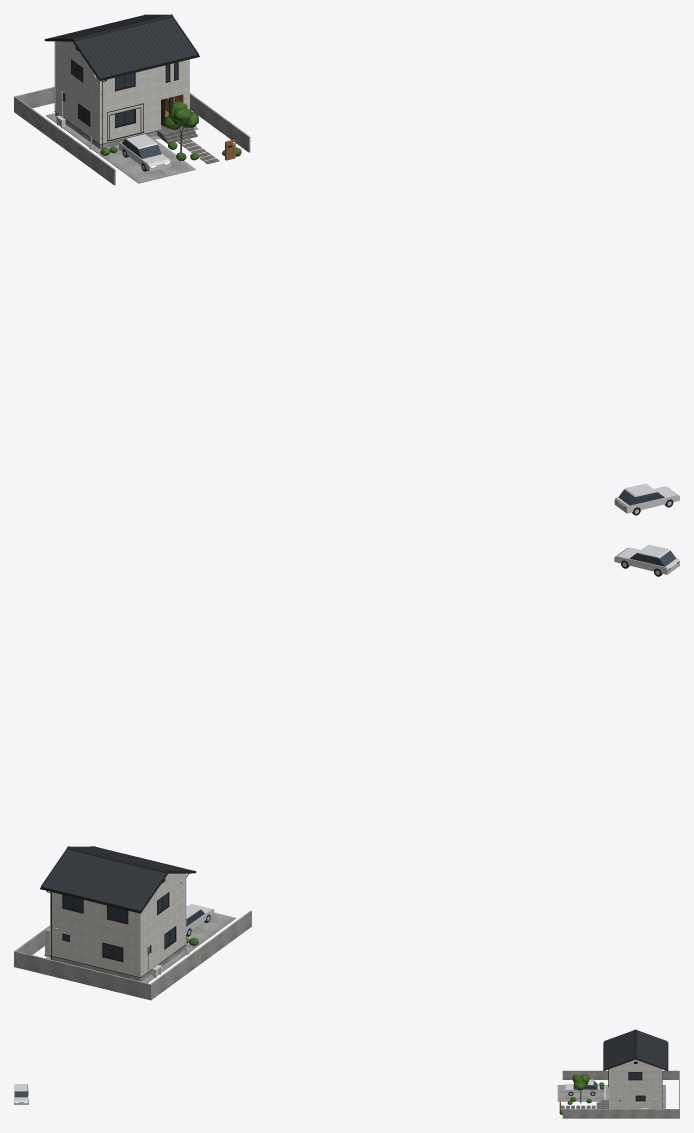
Rendered from house.glb.
The picture shows the model from 3 angles, top to bottom: view 1: azimuth 30°, elevation 25°; view 2: azimuth 150°, elevation 25°; view 3: azimuth 270°, elevation 25°; orthographic projection. The views are drawn at different scales.
Visible parts, largest first — view 1: 02_walls, 03_roof, 08_exterior, 22_street, car_proto, 23_cars, 04_windows, 30_winS; view 2: 02_walls, 03_roof, 22_street, 04_windows, car_proto, 08_exterior; view 3: 02_walls, 03_roof, 22_street, 08_exterior, 23_cars, car_proto, 04_windows, 06_gutters.
Part boxes in pixels (bbox=[...]): 02_walls: bbox=[54, 41, 189, 144]; 03_roof: bbox=[45, 14, 198, 79]; 08_exterior: bbox=[46, 101, 241, 183]; 22_street: bbox=[14, 86, 250, 185]; car_proto: bbox=[614, 483, 679, 515]; 23_cars: bbox=[119, 134, 170, 171]; 04_windows: bbox=[62, 59, 178, 126]; 30_winS: bbox=[106, 101, 144, 141]; 02_walls: bbox=[49, 873, 186, 977]; 03_roof: bbox=[41, 846, 195, 912]; 22_street: bbox=[14, 910, 251, 1000]; 04_windows: bbox=[62, 892, 176, 962]; car_proto: bbox=[614, 544, 679, 576]; 08_exterior: bbox=[46, 912, 235, 982]; 02_walls: bbox=[609, 1059, 662, 1108]; 03_roof: bbox=[604, 1029, 667, 1070]; 22_street: bbox=[562, 1070, 679, 1118]; 08_exterior: bbox=[557, 1074, 665, 1114]; 23_cars: bbox=[563, 1079, 599, 1095]; car_proto: bbox=[14, 1084, 28, 1104]; 04_windows: bbox=[628, 1072, 645, 1101]; 06_gutters: bbox=[603, 1042, 668, 1108].
Size of the model in its own units: 11.04 by 7.48 by 80.
Materials: 30 (8 with a texture image).
